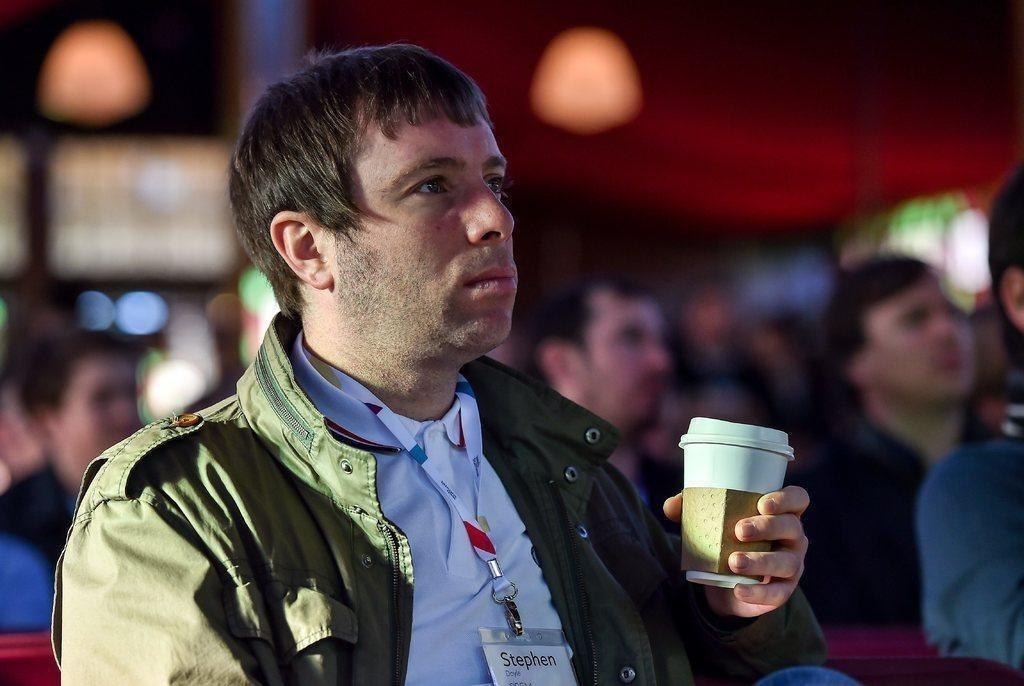cup-disposable: (678, 416, 798, 591)
